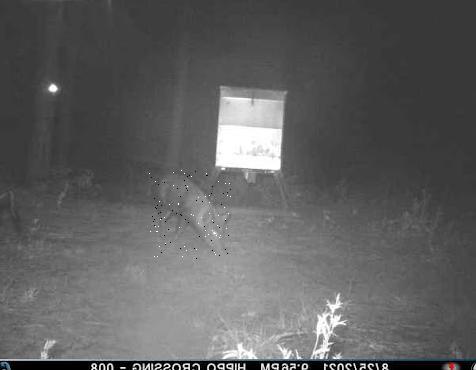Hog: (148, 170, 233, 259)
